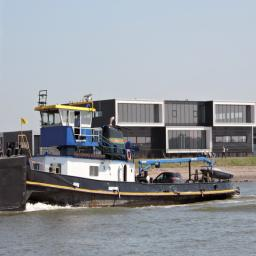tugboat: (3, 90, 242, 211)
